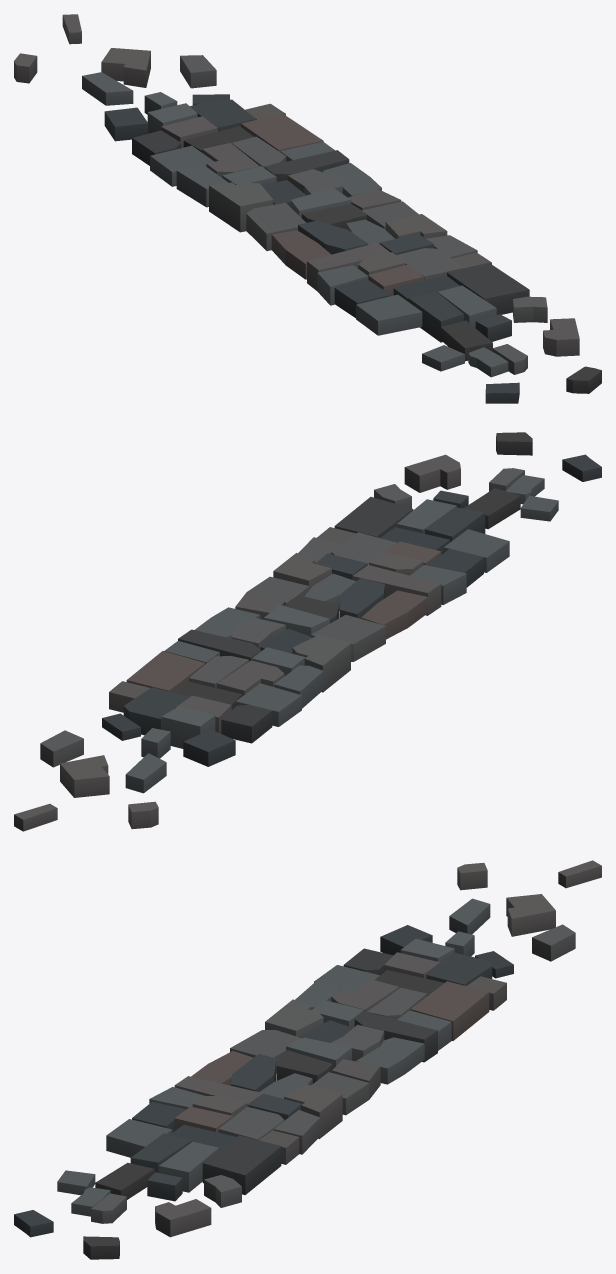
Rendered from ruins_road_001.glb.
3 renders of one model, top to bottom at view 1: azimuth 30°, elevation 25°; view 2: azimuth 150°, elevation 25°; view 3: azimuth 330°, elevation 25°, orthographic. The views are drawn at different scales.
Parts seen in each view (by area): view 1: ruins_road_001; view 2: ruins_road_001; view 3: ruins_road_001.
Part boxes in pixels (bbox=[...]): ruins_road_001: bbox=[14, 14, 601, 403]; ruins_road_001: bbox=[14, 432, 601, 831]; ruins_road_001: bbox=[14, 860, 601, 1259].
Bounding box in the file's own units: 4.29 × 0.6684 × 23.55.
Materials: 1 (1 with a texture image).
